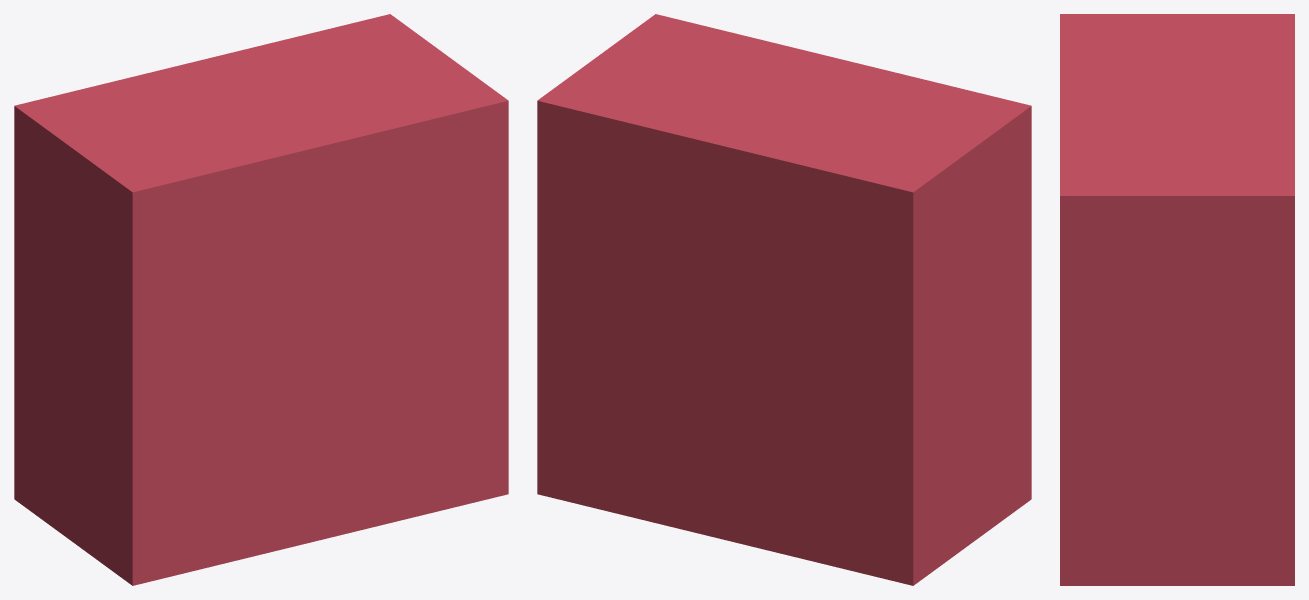
The model's file is Gift10.glb.
The picture shows the model from 3 angles, left to right: view 1: azimuth 30°, elevation 25°; view 2: azimuth 150°, elevation 25°; view 3: azimuth 270°, elevation 25°; orthographic projection.
Visible parts, largest first — view 1: Gift10; view 2: Gift10; view 3: Gift10.
Boxes of the visible parts, box(x1,y1,x2,y2) form: Gift10: box(14, 14, 508, 585); Gift10: box(537, 14, 1031, 585); Gift10: box(1060, 14, 1294, 585).
Bounding box in the file's own units: 0.011 × 0.011 × 0.006.
